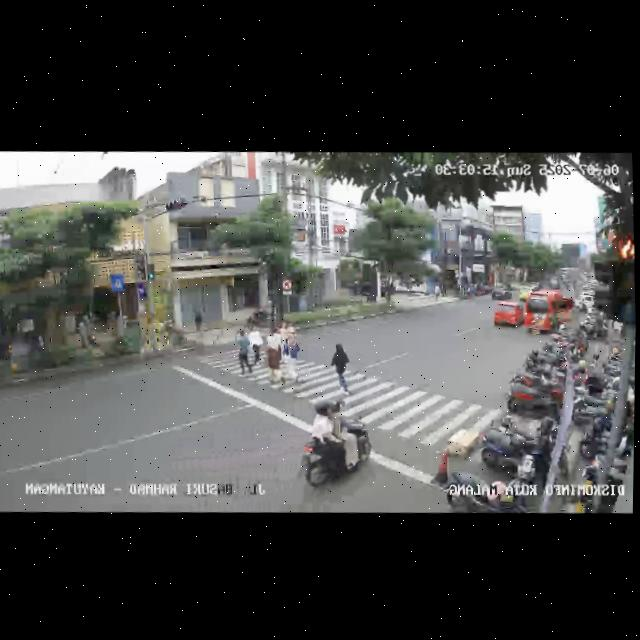car: (523, 289, 575, 338), (491, 299, 525, 334)
motorcycle: (295, 400, 368, 496)
person: (329, 339, 351, 394), (234, 325, 253, 373), (265, 335, 284, 383), (286, 335, 303, 388), (249, 326, 264, 365), (279, 321, 288, 344), (271, 328, 281, 346)
